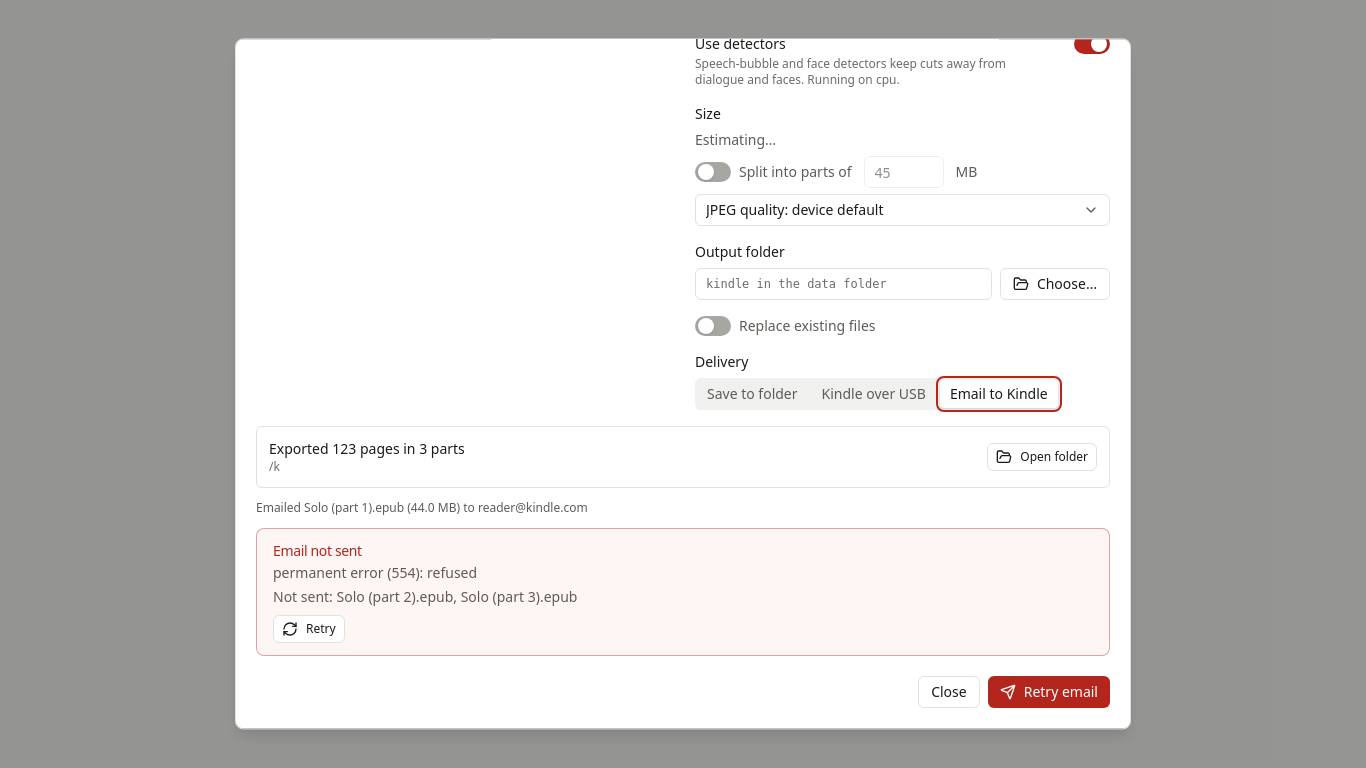
Test: export dialog: emailing a book split into parts › sends each part as part n of 3 and names the parts a refusal left unsent
Earlier steps of the test are not shown.
(page scrolled)
Expected: the text "554" is shown, [273,563,477,582]
Expected: the text "Emailed Solo (part 1).epub (44.0 MB) to reader@kindle.com" is shown, [256,499,588,516]
Step 1. Click the button "Retry email" → (1049, 692), box [988,676,1110,708]
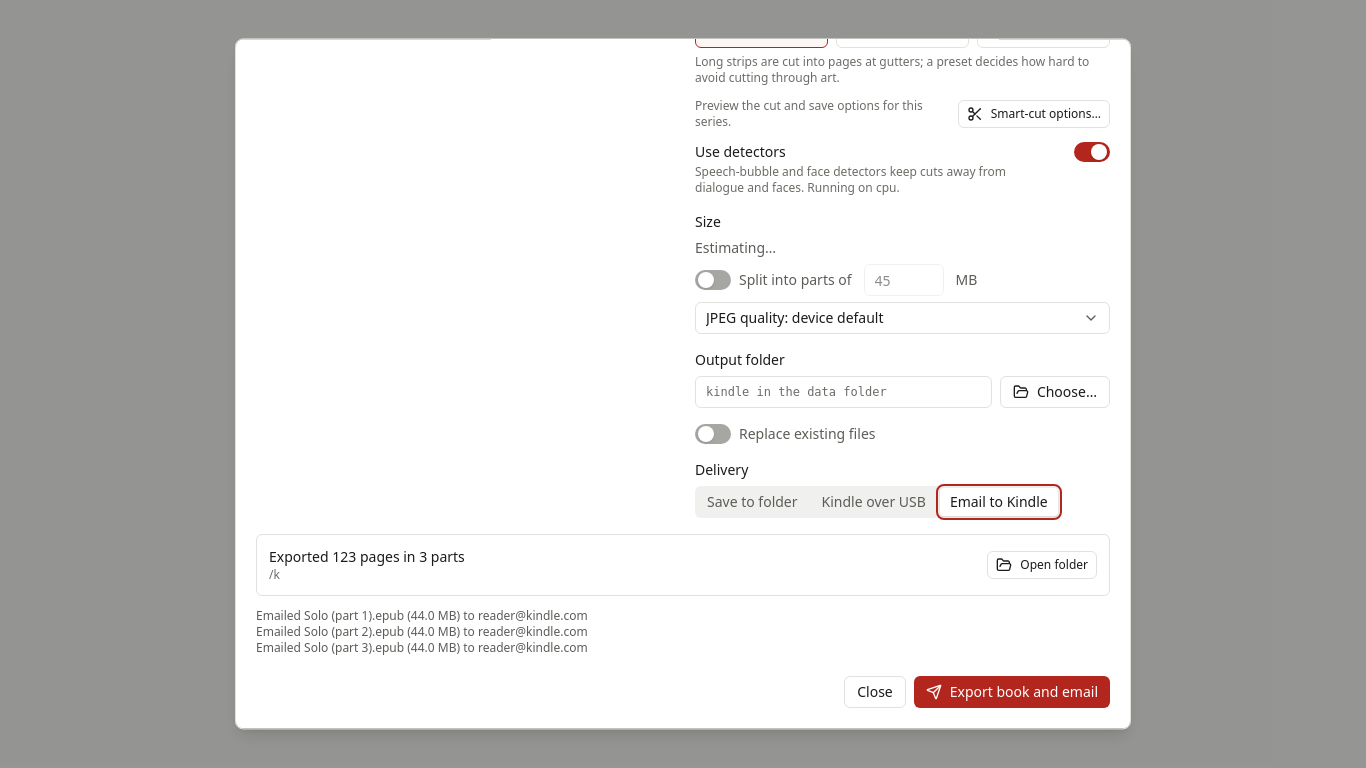
Now the text "Emailed Solo (part 3).epub" is shown, box [256,607,588,656]
